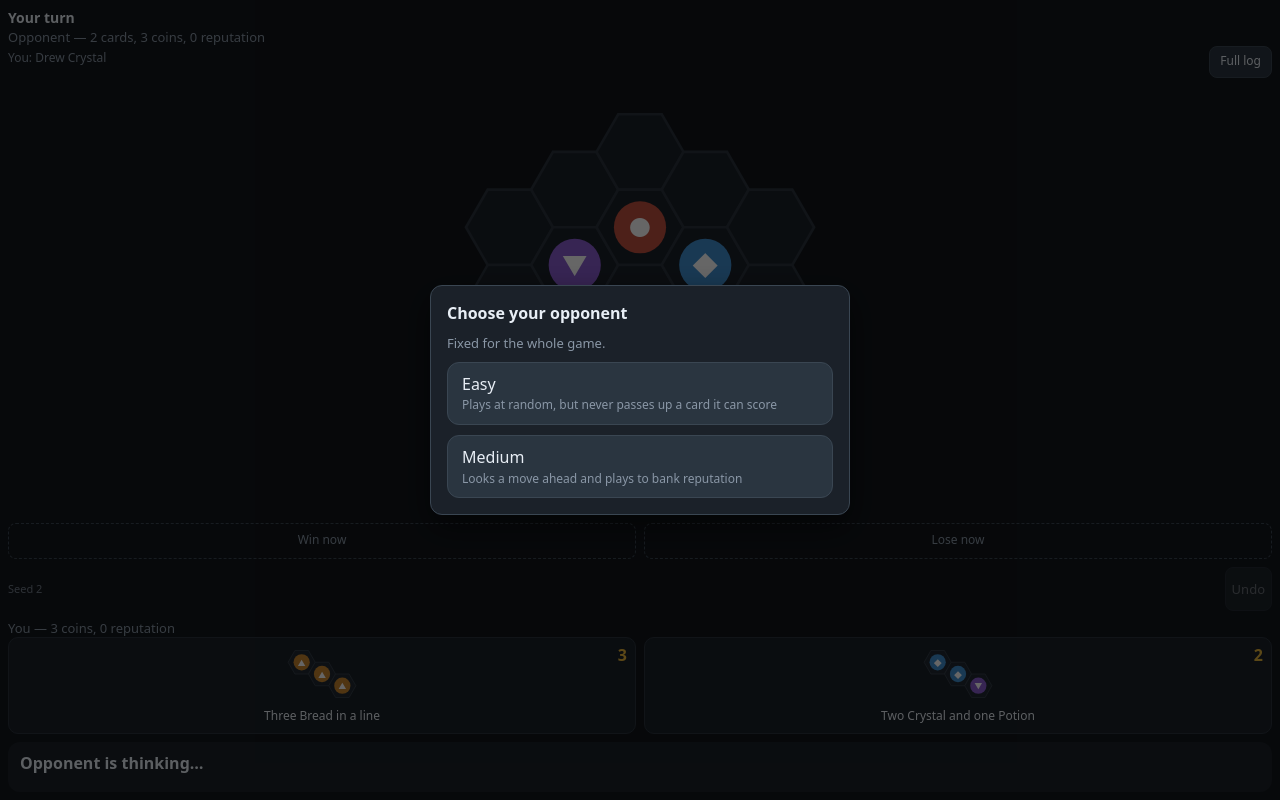
Test: App › jumps to a finished game you won, and to one you lost
Click the text "Easy": (479, 384) [462, 373, 496, 395]
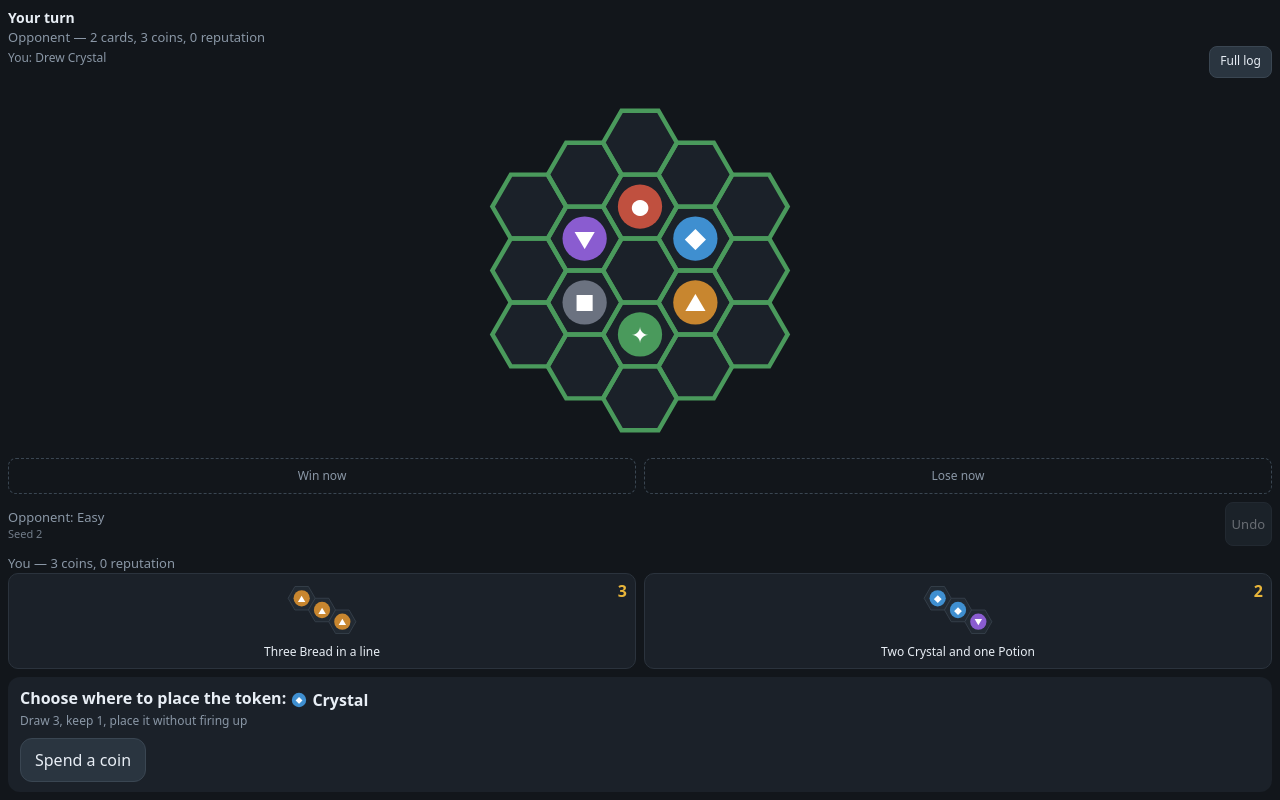
Click the button "Win now": (322, 476) [8, 458, 636, 494]
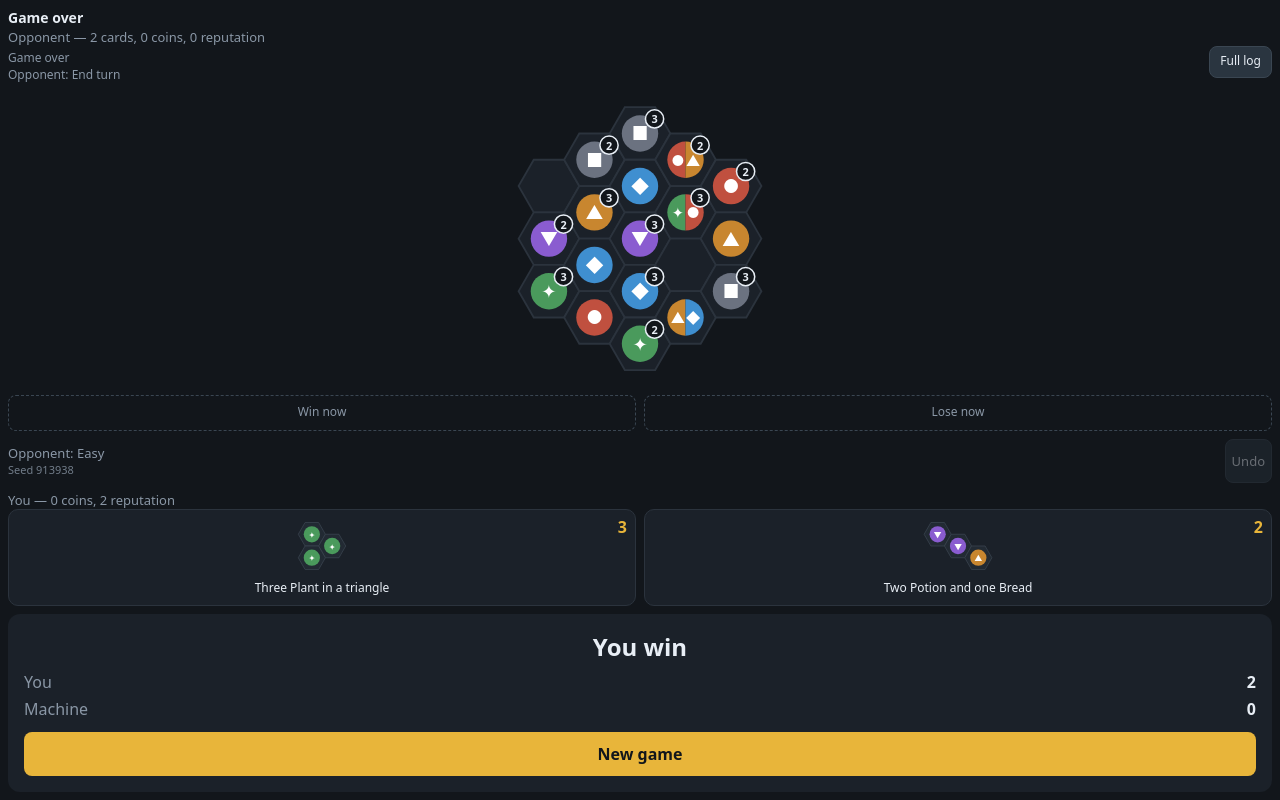
Expected: the heading "You win" is shown, [593, 630, 687, 663]
Click the button "Lose now": (958, 413) [644, 395, 1272, 431]
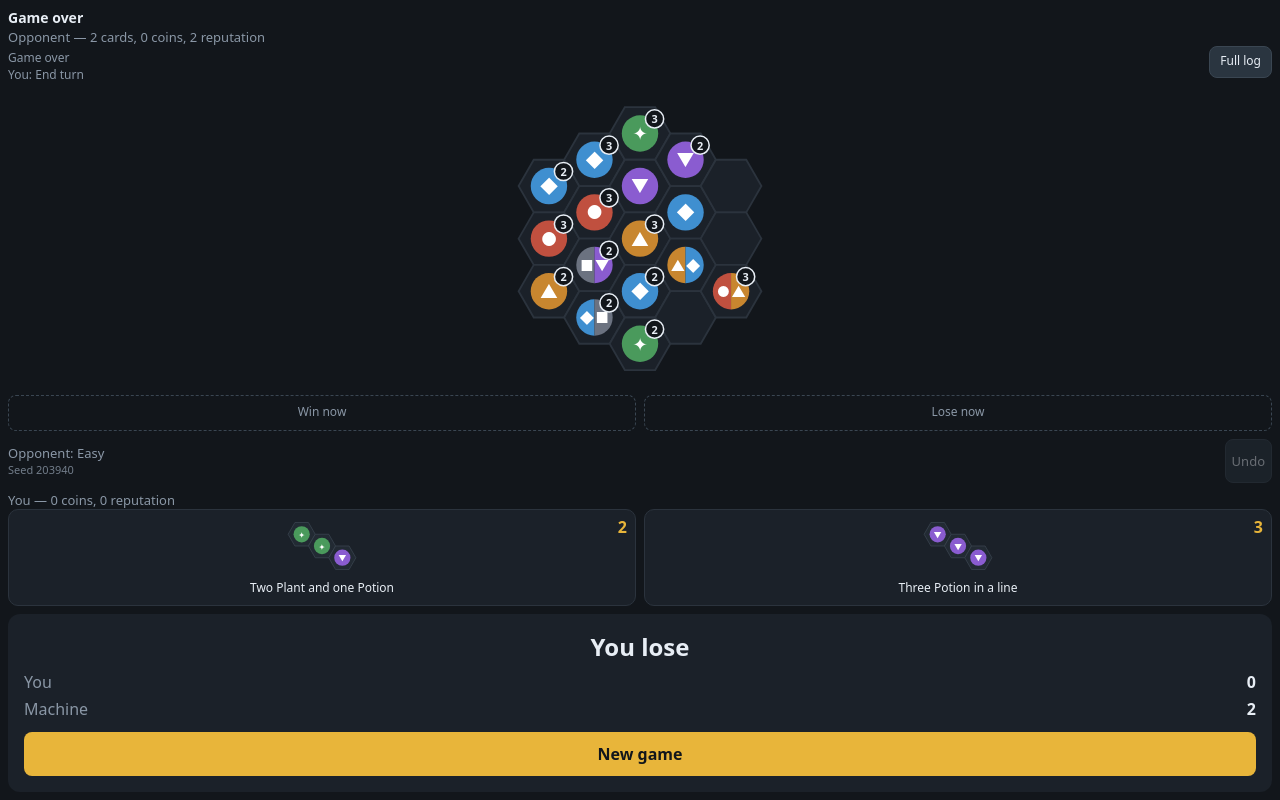
Expected: the heading "You lose" is shown, [590, 630, 689, 663]
